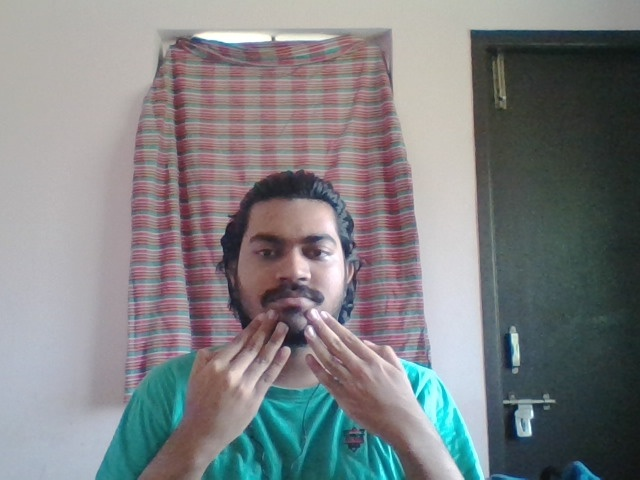ThankYou: (185, 308, 423, 439)
